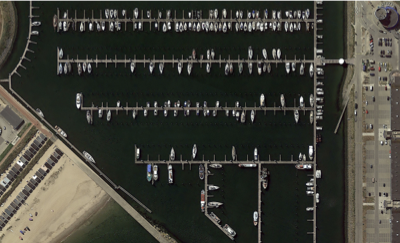boat: (83, 149, 97, 164), (55, 124, 68, 138), (223, 223, 236, 236), (209, 211, 221, 223), (262, 167, 268, 189), (147, 162, 153, 182), (295, 163, 313, 169), (153, 164, 159, 180), (168, 164, 173, 183), (53, 13, 58, 32), (308, 145, 314, 160), (36, 108, 45, 118), (76, 93, 81, 109), (201, 189, 205, 209), (199, 163, 204, 179), (237, 163, 257, 167), (209, 201, 224, 206), (208, 163, 223, 168), (309, 62, 314, 77), (260, 93, 265, 107), (253, 211, 258, 225), (86, 110, 91, 124), (248, 46, 253, 59), (241, 110, 246, 123), (280, 94, 285, 107), (193, 143, 197, 159), (232, 145, 236, 161), (209, 185, 221, 190), (107, 110, 112, 122), (78, 62, 82, 76), (171, 146, 175, 160), (310, 110, 314, 124), (262, 48, 267, 59), (59, 48, 64, 59), (188, 62, 192, 75), (251, 110, 255, 123), (254, 147, 258, 160), (295, 110, 299, 123), (310, 94, 314, 107), (105, 8, 110, 18), (132, 109, 137, 119), (178, 62, 182, 74), (249, 62, 253, 74), (300, 95, 304, 107), (286, 62, 290, 74), (300, 62, 304, 74), (64, 62, 68, 74), (316, 169, 321, 178), (98, 109, 103, 118), (131, 62, 135, 73), (150, 62, 154, 73), (159, 63, 163, 74), (225, 63, 229, 74), (239, 62, 243, 73), (258, 63, 262, 74), (272, 48, 276, 59), (277, 48, 281, 59), (223, 21, 227, 32), (205, 21, 209, 32), (197, 21, 201, 32), (179, 21, 183, 32), (163, 21, 167, 32), (59, 62, 63, 73), (80, 21, 84, 32), (88, 62, 92, 72), (83, 62, 87, 72), (211, 49, 215, 59), (229, 62, 233, 72), (236, 111, 240, 121), (305, 190, 315, 194), (316, 192, 320, 202), (306, 8, 310, 18), (273, 21, 277, 31), (248, 21, 252, 31), (223, 8, 227, 18), (214, 22, 218, 32), (135, 8, 139, 18), (110, 21, 114, 31), (63, 21, 67, 31), (193, 48, 196, 60), (305, 182, 314, 186), (260, 22, 264, 31), (235, 22, 239, 31), (210, 9, 214, 18), (202, 21, 206, 30), (114, 9, 118, 18), (110, 9, 114, 18), (97, 22, 101, 31), (32, 21, 41, 25), (290, 21, 293, 32), (137, 147, 140, 158), (277, 21, 281, 29), (72, 21, 76, 29), (31, 30, 39, 34), (168, 9, 171, 19), (207, 62, 210, 72), (207, 49, 210, 59), (268, 62, 271, 72), (316, 133, 319, 143), (307, 22, 310, 32), (285, 21, 288, 31), (265, 9, 268, 19), (244, 21, 247, 31), (219, 21, 222, 31), (215, 8, 218, 18), (176, 21, 179, 31), (69, 62, 72, 72), (307, 186, 314, 190), (316, 115, 323, 119), (316, 67, 323, 71), (263, 62, 266, 71), (292, 62, 295, 71), (319, 133, 322, 142), (252, 21, 255, 30), (252, 9, 255, 18), (240, 21, 243, 30), (193, 21, 196, 30), (168, 21, 171, 30), (139, 21, 142, 30), (102, 21, 105, 30), (117, 101, 121, 107), (168, 99, 171, 107), (174, 109, 177, 117), (299, 152, 302, 160), (303, 153, 306, 161), (306, 207, 314, 210), (316, 98, 324, 101), (298, 10, 301, 18), (298, 22, 301, 30), (278, 11, 281, 19), (273, 10, 276, 18), (265, 21, 268, 29), (257, 21, 260, 29), (248, 12, 252, 18), (240, 10, 243, 18), (236, 10, 239, 18), (210, 22, 213, 30), (197, 10, 200, 18), (189, 21, 192, 29), (184, 22, 187, 30), (147, 10, 150, 18), (90, 22, 93, 30), (59, 21, 62, 29), (64, 11, 67, 19), (154, 108, 157, 116), (177, 100, 180, 107), (184, 109, 187, 116), (188, 100, 191, 107), (207, 109, 210, 116), (232, 109, 235, 116), (316, 112, 323, 115), (317, 109, 324, 112), (317, 92, 324, 95), (316, 88, 323, 91), (316, 81, 323, 84), (317, 71, 324, 74), (302, 11, 305, 18), (294, 10, 297, 17), (228, 22, 231, 29), (159, 11, 162, 18), (155, 22, 158, 29), (118, 22, 121, 29), (164, 109, 167, 116), (144, 109, 147, 116), (184, 101, 187, 107), (204, 101, 207, 107), (197, 102, 200, 108), (213, 110, 216, 116), (316, 127, 322, 130), (317, 35, 323, 38), (317, 19, 323, 22), (317, 1, 323, 4), (286, 11, 289, 17), (68, 22, 71, 28), (257, 10, 259, 18), (197, 110, 200, 115), (201, 54, 204, 59), (319, 100, 324, 103), (122, 10, 125, 15), (204, 109, 206, 116), (227, 109, 229, 116), (312, 22, 314, 29), (294, 22, 296, 29), (290, 10, 292, 17), (189, 11, 191, 18), (155, 101, 157, 107), (165, 101, 167, 107), (187, 109, 189, 115), (217, 101, 219, 107), (237, 101, 239, 107), (316, 106, 322, 108), (270, 22, 272, 28), (135, 22, 137, 28), (115, 21, 117, 27), (148, 102, 150, 107), (175, 102, 177, 107), (208, 170, 211, 173), (201, 209, 205, 211), (317, 55, 321, 57), (216, 205, 219, 207), (189, 56, 192, 58), (291, 15, 293, 18), (96, 20, 98, 23), (258, 17, 260, 19), (66, 62, 68, 64)
